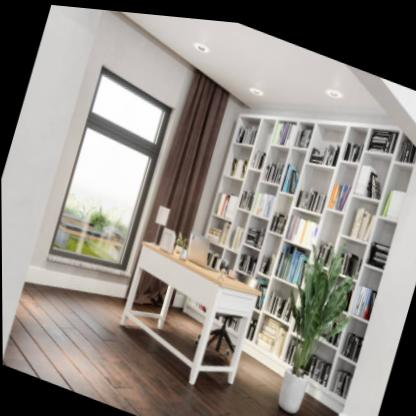Curtains: (146, 67, 229, 238)
Window: (48, 62, 174, 268)
